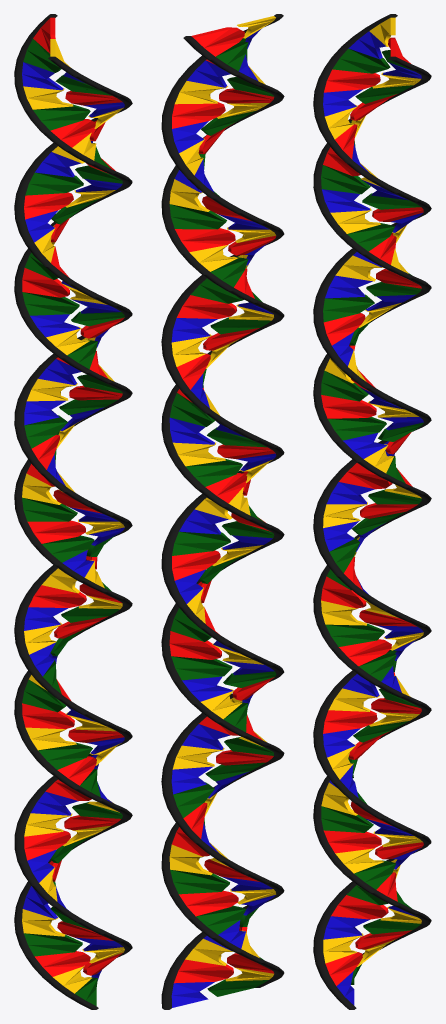
File: Dna_2.FBX
3 renders of one model, left to right at view 1: azimuth 90°, elevation 25°; view 2: azimuth 210°, elevation 25°; view 3: azimuth 270°, elevation 25°, orthographic. The views are drawn at different scales.
Parts seen in each view (by area): view 1: Group001; view 2: Group001; view 3: Group001.
Boxes of the visible parts, bbox=[...] form: Group001: bbox=[14, 14, 132, 1009]; Group001: bbox=[161, 14, 284, 1009]; Group001: bbox=[313, 14, 431, 1009].
Size of the model in its own units: 35.92 by 35.93 by 317.
